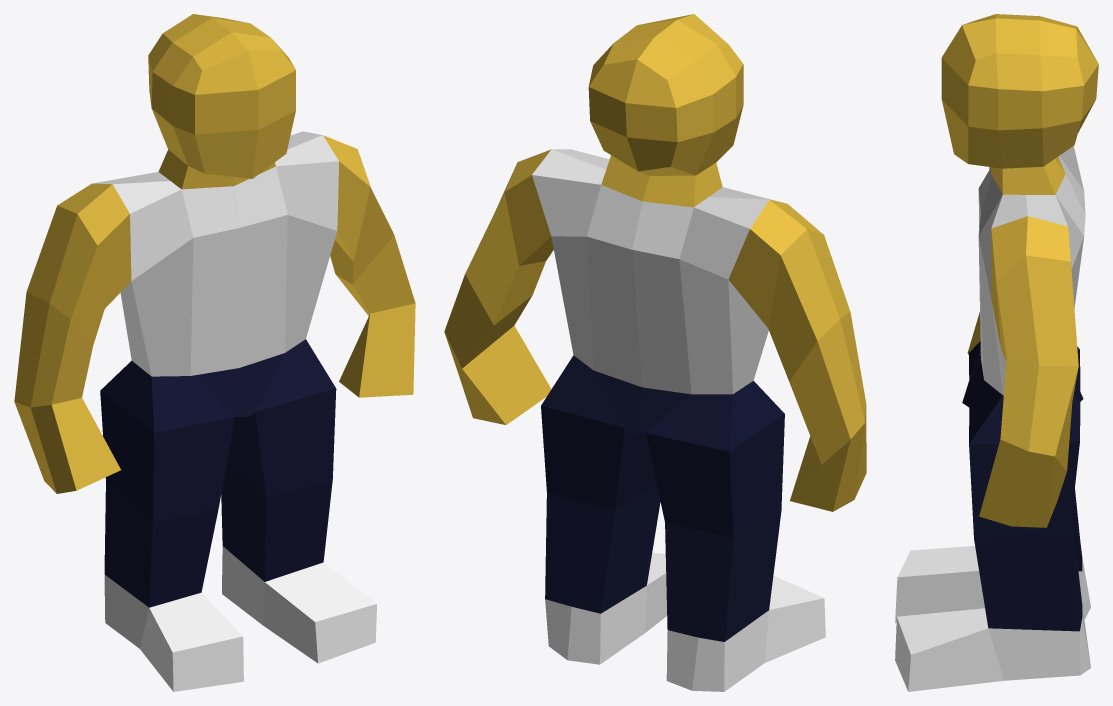
The model's file is villager.glb.
3 renders of one model, left to right at view 1: azimuth 30°, elevation 25°; view 2: azimuth 150°, elevation 25°; view 3: azimuth 270°, elevation 25°, orthographic. The views are drawn at different scales.
Visible parts, largest first — view 1: Cube.001; view 2: Cube.001; view 3: Cube.001.
Part boxes in pixels (x1,y1,x2,y2): Cube.001: [14, 14, 415, 691]; Cube.001: [444, 14, 866, 691]; Cube.001: [895, 14, 1098, 691].
Size of the model in its own units: 1.44 by 2.14 by 0.6345.
